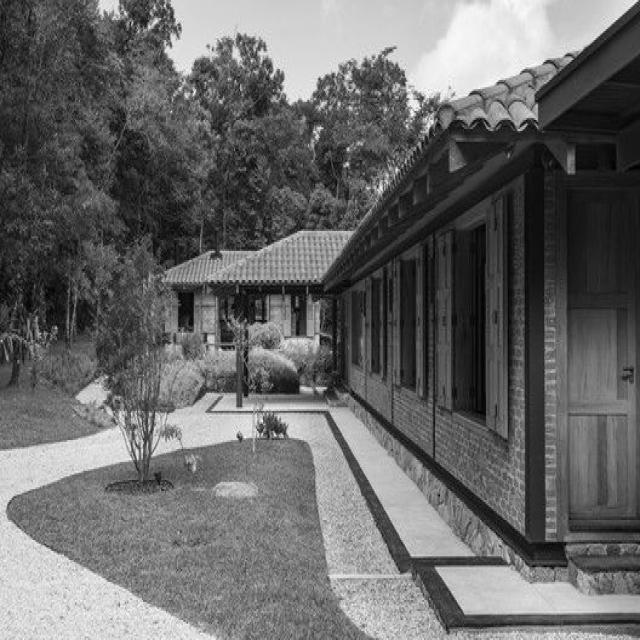Fachada: (324, 4, 639, 571), (165, 229, 350, 347)
